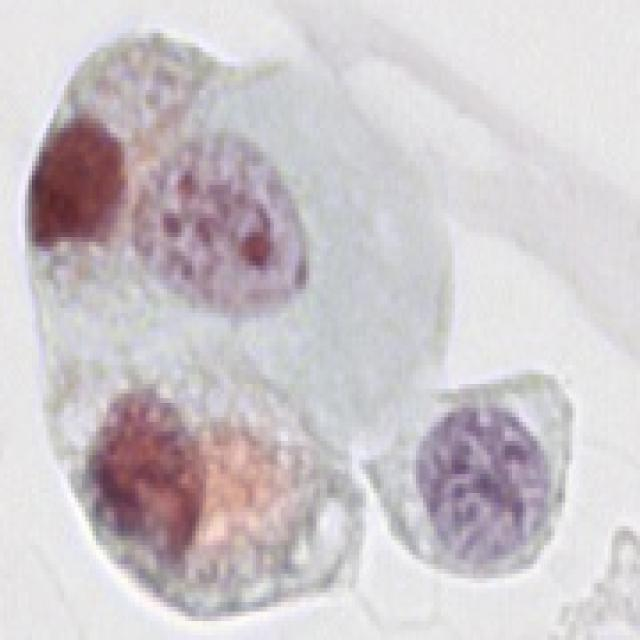cytoplasm: (0, 265, 392, 640), (359, 372, 585, 592)
nucleus: (50, 378, 250, 576), (398, 387, 575, 580)
